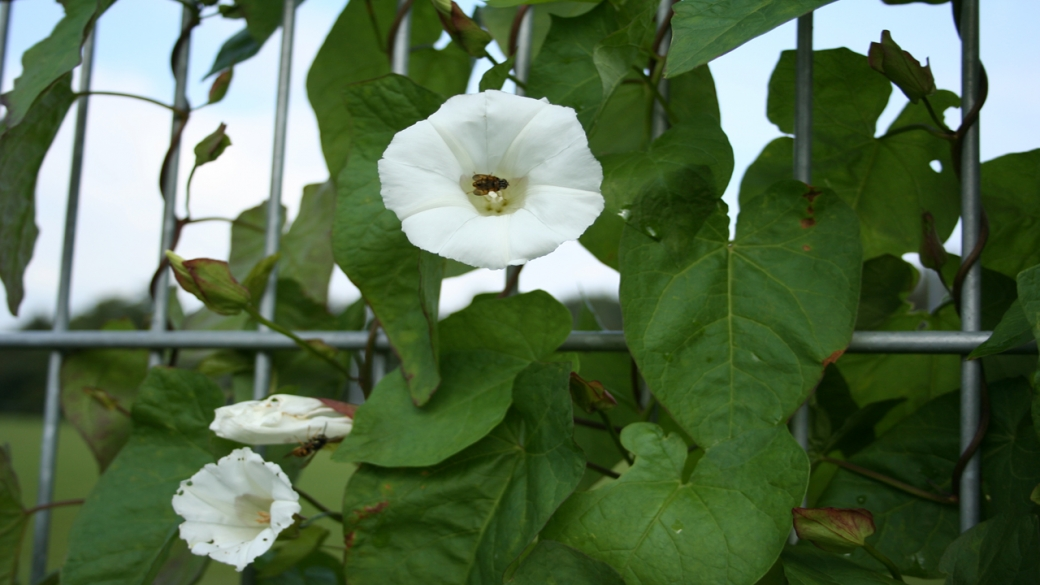haagwinde: (617, 127, 866, 585), (378, 78, 612, 288), (173, 380, 364, 585)
